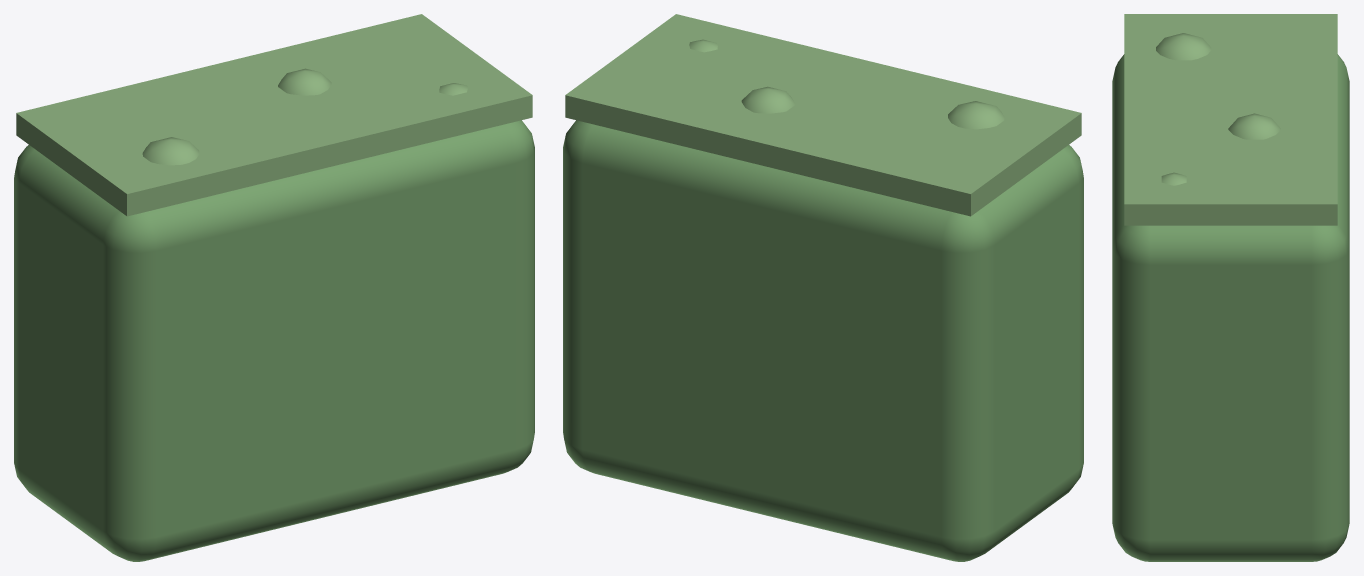
The model's file is hedge.glb.
3 renders of one model, left to right at view 1: azimuth 30°, elevation 25°; view 2: azimuth 150°, elevation 25°; view 3: azimuth 270°, elevation 25°, orthographic. The views are drawn at different scales.
Visible parts, largest first — view 1: body, top, bump_1, bump_2; view 2: body, top, bump_1, bump_2; view 3: body, top, bump_1, bump_2.
Boxes of the visible parts, x1,y1,x2,y2 form: body: (14, 120, 534, 561); top: (16, 14, 532, 216); bump_1: (142, 137, 199, 165); bump_2: (278, 68, 331, 95); body: (563, 120, 1083, 561); top: (565, 14, 1081, 216); bump_1: (948, 101, 1004, 129); bump_2: (741, 86, 795, 113); body: (1112, 54, 1349, 561); top: (1124, 14, 1337, 225); bump_1: (1156, 33, 1211, 60); bump_2: (1228, 113, 1280, 139).
Bounding box in the file's own units: 1 × 0.88 × 0.5.
